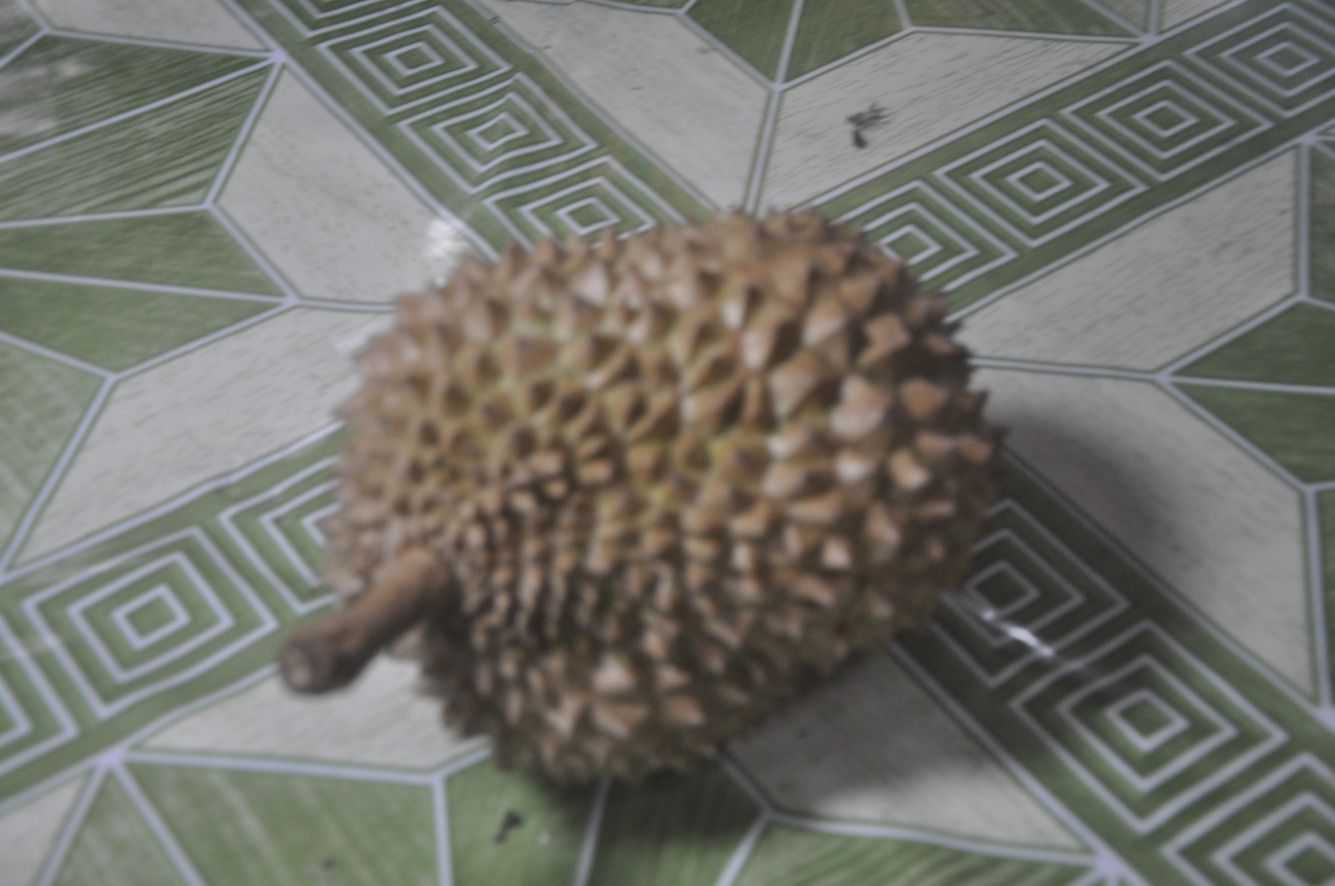mature: (280, 212, 998, 783)
